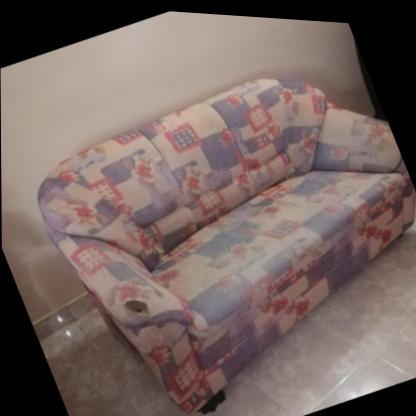Ceramic floor: (31, 222, 416, 416)
Sofa: (14, 22, 416, 416)
